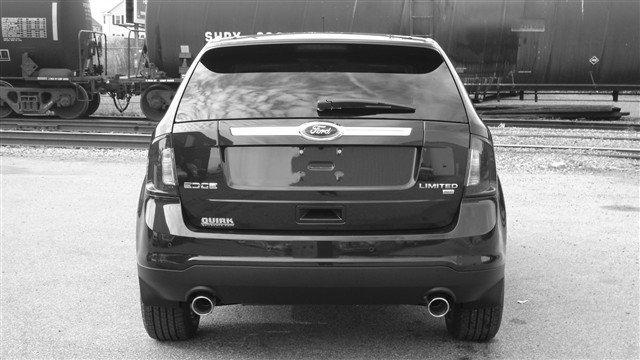car: (136, 35, 511, 344)
